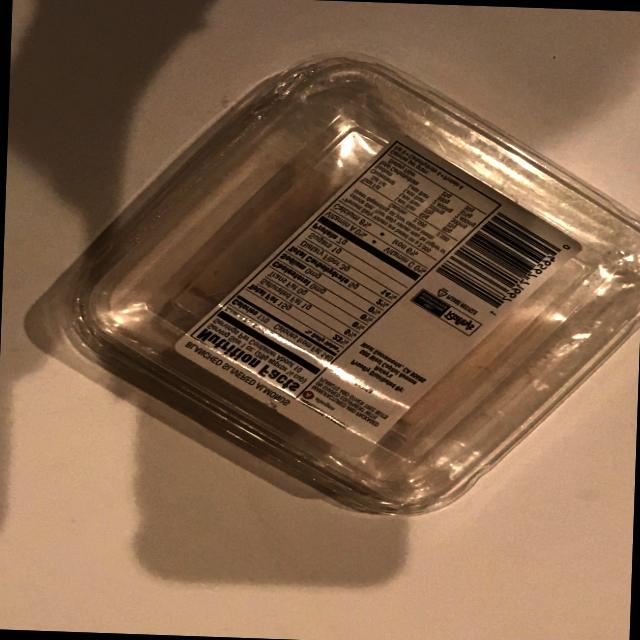Plastic: (23, 37, 640, 536)
